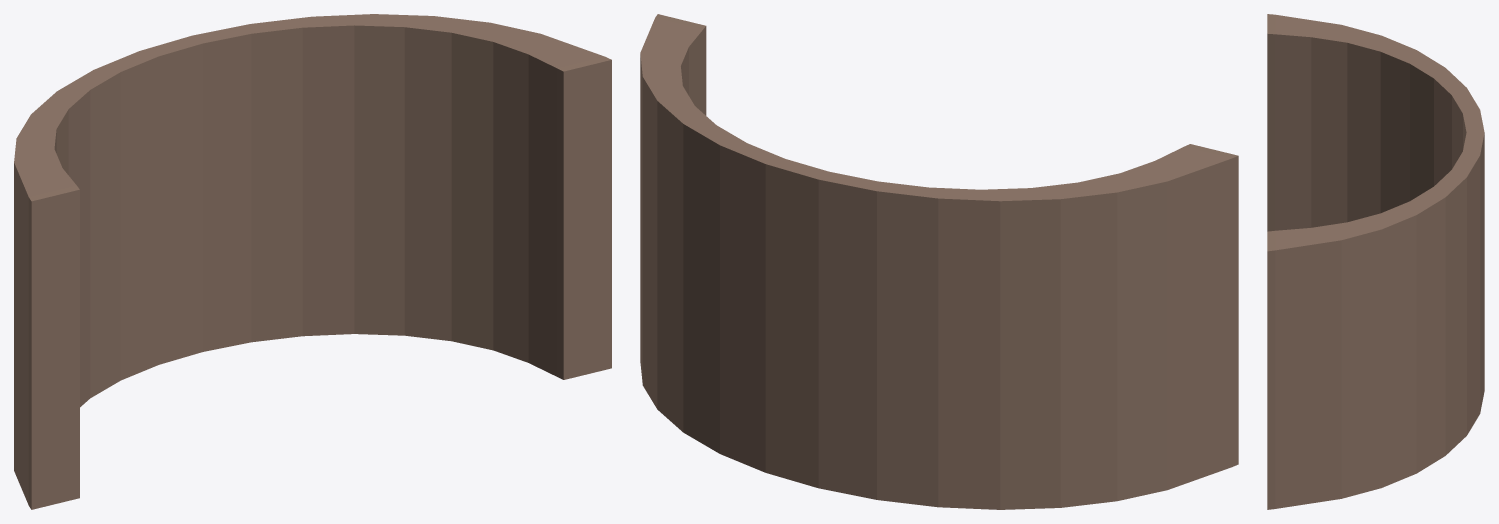
Rendered from collisionwall.fbx.
3 renders of one model, left to right at view 1: azimuth 30°, elevation 25°; view 2: azimuth 150°, elevation 25°; view 3: azimuth 270°, elevation 25°, orthographic. The views are drawn at different scales.
Visible parts, largest first — view 1: collisionwall; view 2: collisionwall; view 3: collisionwall.
Part boxes in pixels (<box>): collisionwall: <box>14,14,611,509</box>; collisionwall: <box>640,14,1238,509</box>; collisionwall: <box>1267,14,1484,509</box>.
Bounding box in the file's own units: 1969 × 1001 × 761.
